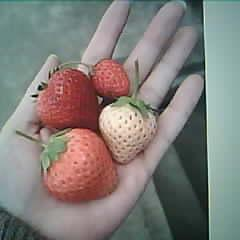straw-ripe: (42, 128, 117, 198), (37, 68, 97, 130), (91, 59, 129, 96)
straw-unripe: (99, 97, 158, 163)
